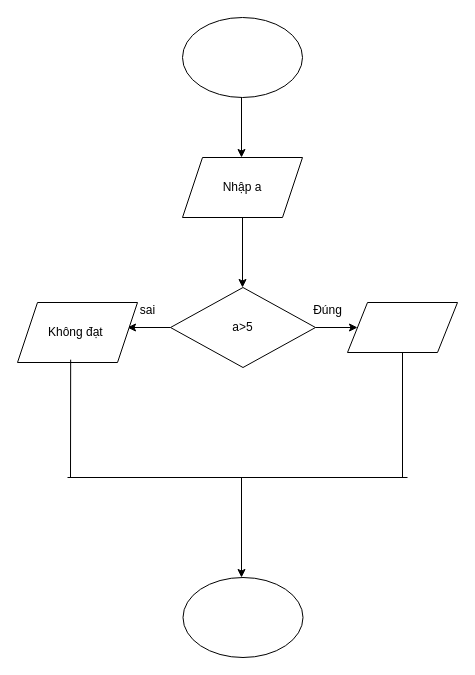
The diagram is 475 pixels wide and 675 high, and some of its shapes have lost their labels. The box of each missing label's shape, as (x1, y1, x2, y2) in pixels:
Bắt đầu: (182, 16, 302, 98)
Đạt: (346, 302, 458, 352)
